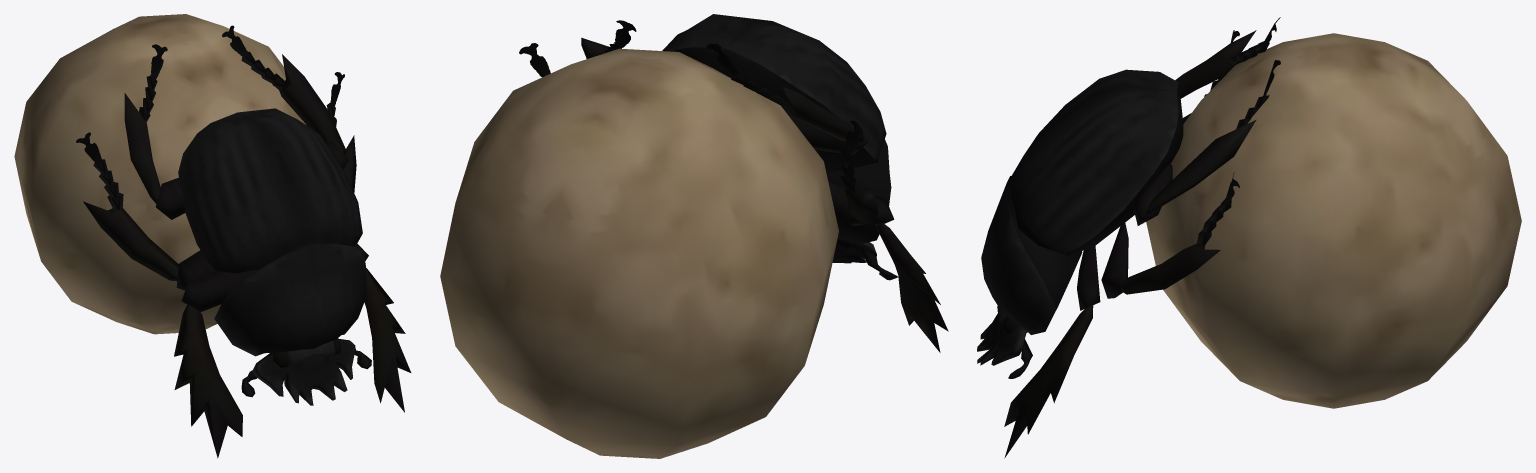
File: bug-museum.glb
The picture shows the model from 3 angles, left to right: view 1: azimuth 30°, elevation 25°; view 2: azimuth 150°, elevation 25°; view 3: azimuth 270°, elevation 25°; orthographic projection. The views are drawn at different scales.
Visible parts, largest first — view 1: mFunkorogashi, mDango; view 2: mDango, mFunkorogashi; view 3: mDango, mFunkorogashi.
Part boxes in pixels (x1,y1,x2,y2): mFunkorogashi: (76, 25, 411, 458); mDango: (14, 14, 305, 334); mDango: (440, 48, 838, 458); mFunkorogashi: (519, 14, 948, 352); mDango: (1146, 33, 1521, 408); mFunkorogashi: (977, 17, 1280, 458).
Bounding box in the file's own units: 3.2 × 3.49 × 4.63.
Materials: 2 (2 with a texture image).
